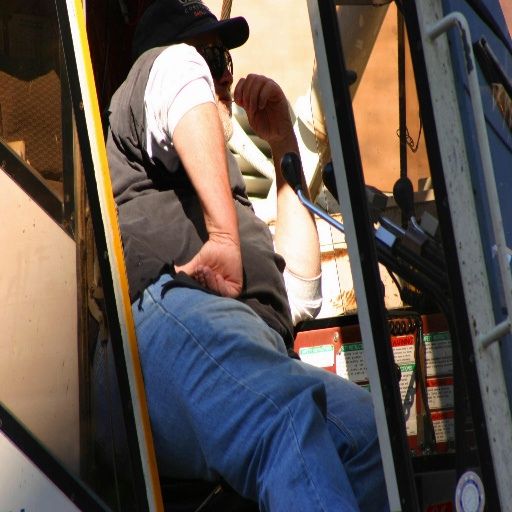hand: (179, 202, 252, 306), (233, 72, 292, 146)
